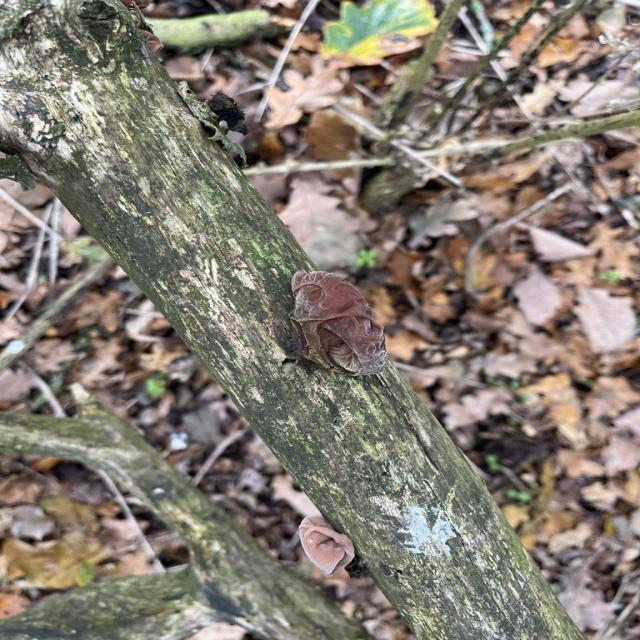Matang: (281, 266, 390, 384), (299, 516, 358, 578)
